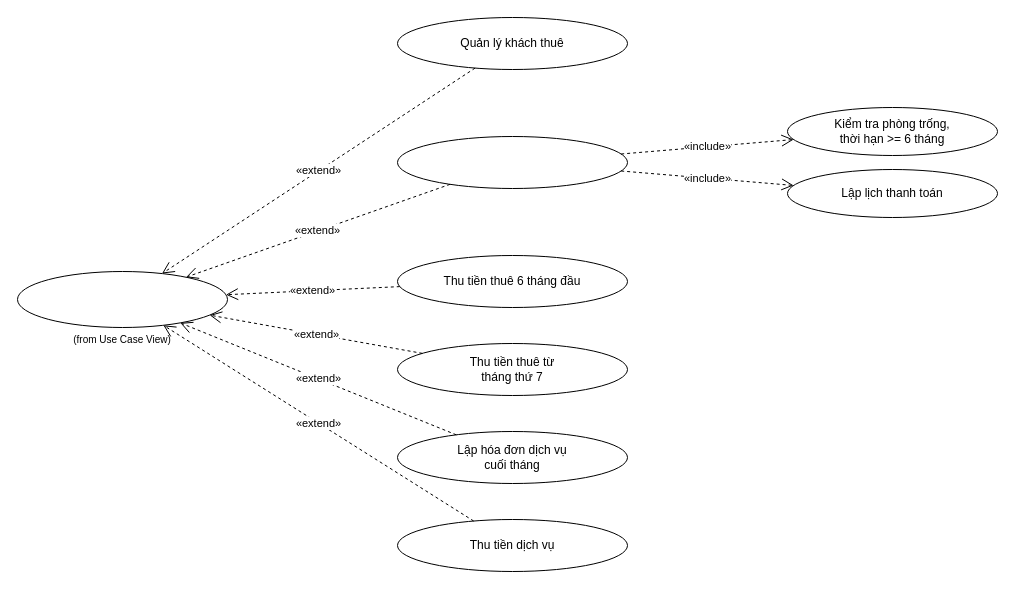
The diagram is 1015 pixels wide and 589 high, and some of its shapes have lost their labels. The centre of each missing label's shape, as x and y in pixels:
"Hợp đồng - thanh toán" belongs at point 122,299.
"Lập hợp đồng thuê" belongs at point 512,162.
